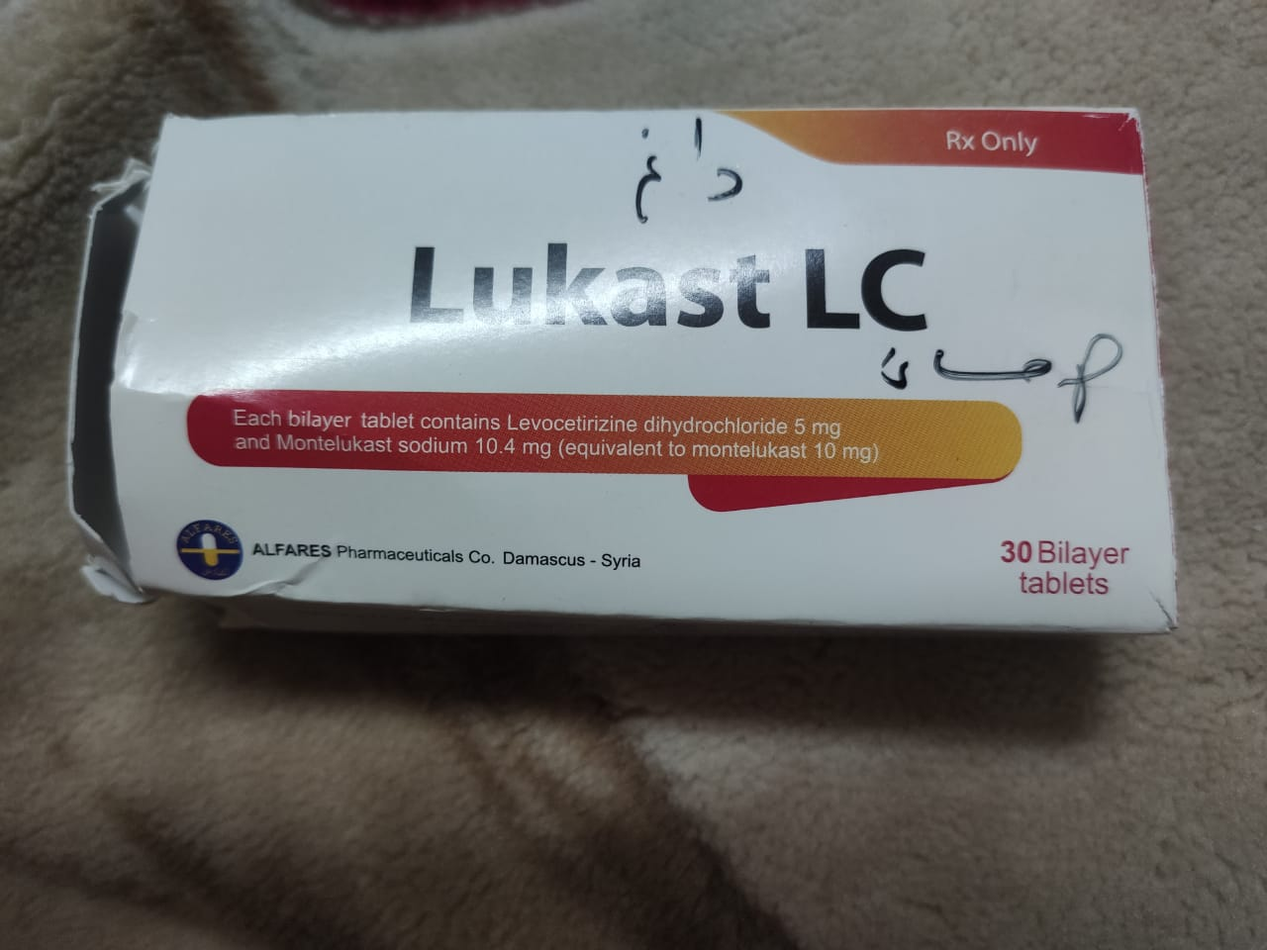Medicine: (109, 92, 1190, 653)
